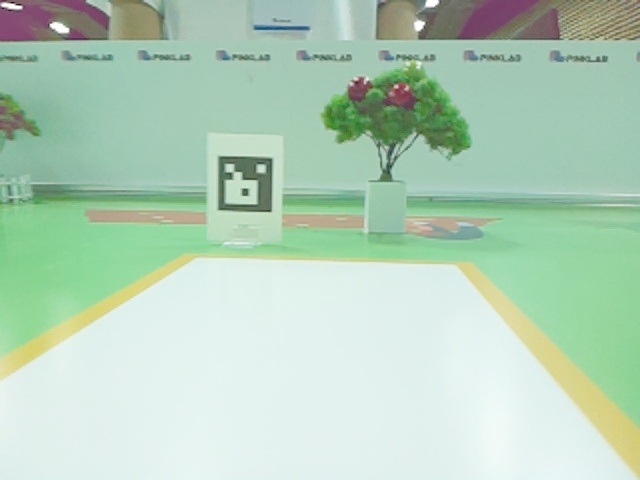apple: (388, 83, 414, 105), (349, 79, 370, 95)
